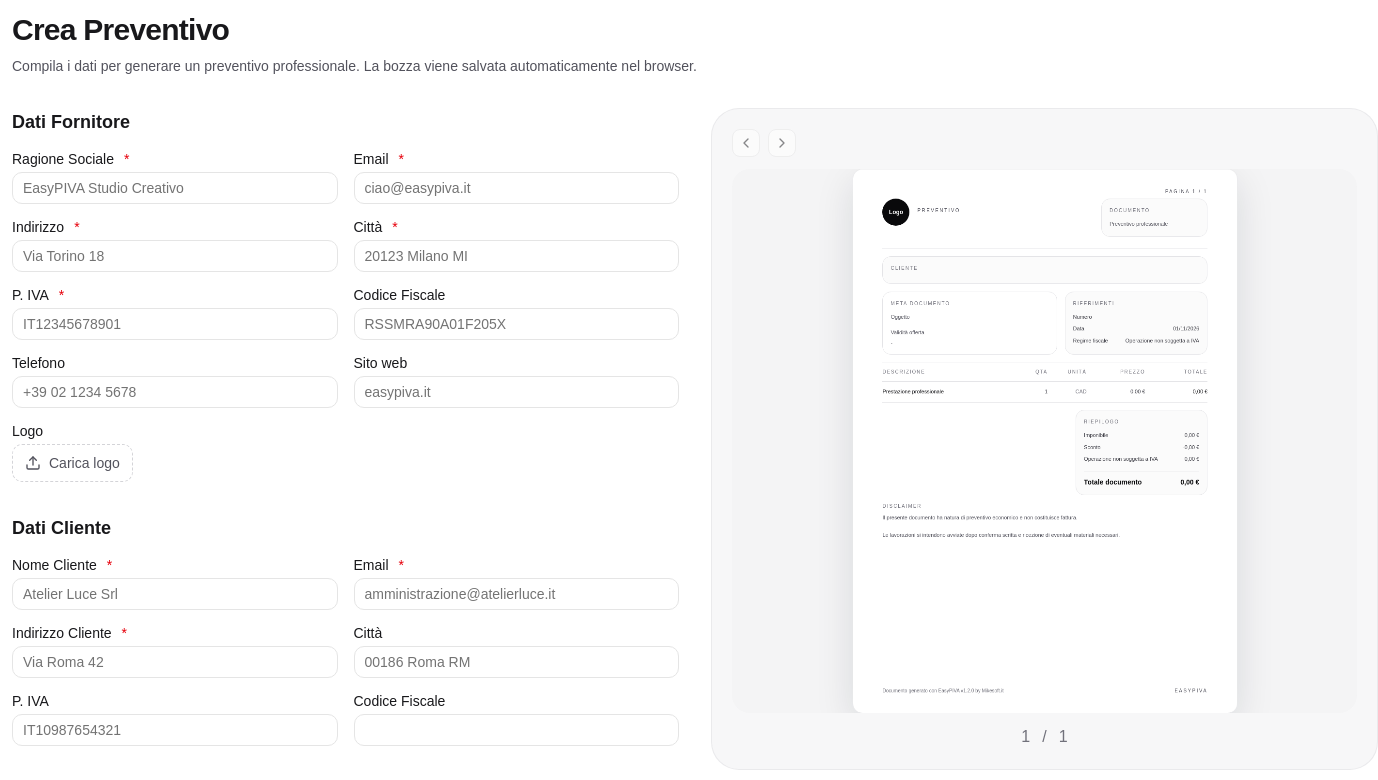
Test: QuoteBuilder draft persistence › persists draft to localStorage on form change
Type "Nuovo Fornitore" into the field labelled "Ragione Sociale *".
click(175, 188); type("Nuovo Fornitore")  # box [12,172,338,204]
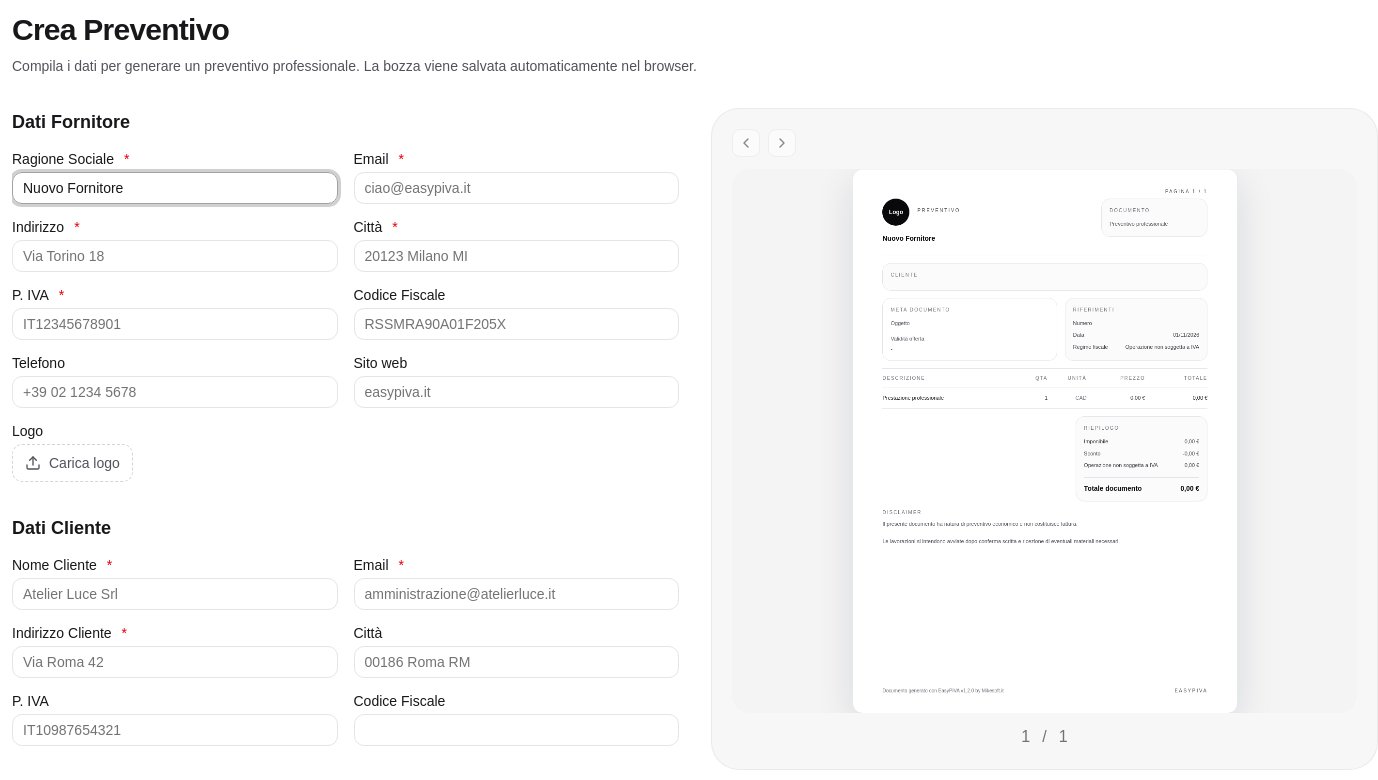
Expected: the text "Nuovo Fornitore" is shown, [882,235,935,242]
